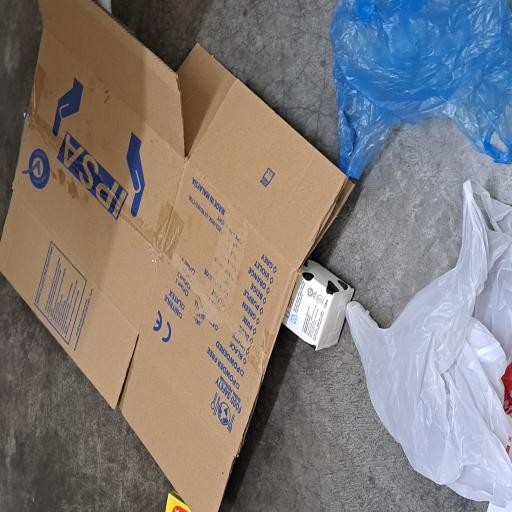cardboard: (0, 0, 384, 476)
drink carton: (118, 374, 190, 473)
plastic bag: (0, 461, 250, 512), (245, 440, 384, 512)
